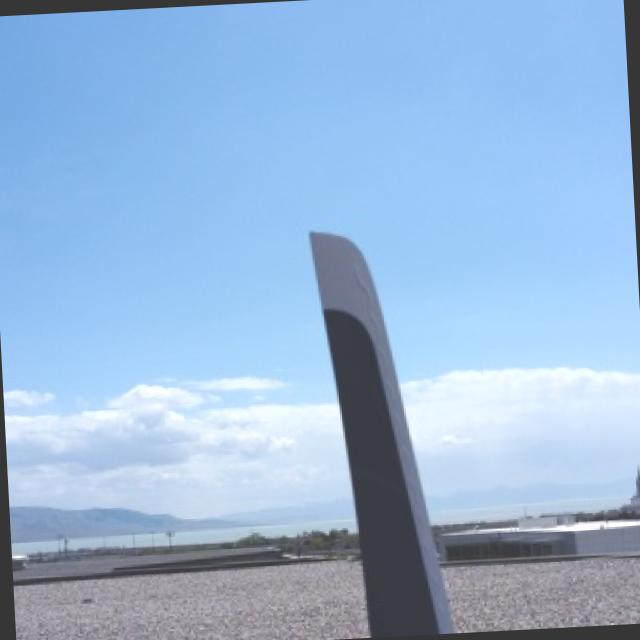healthy: (311, 231, 454, 635)
